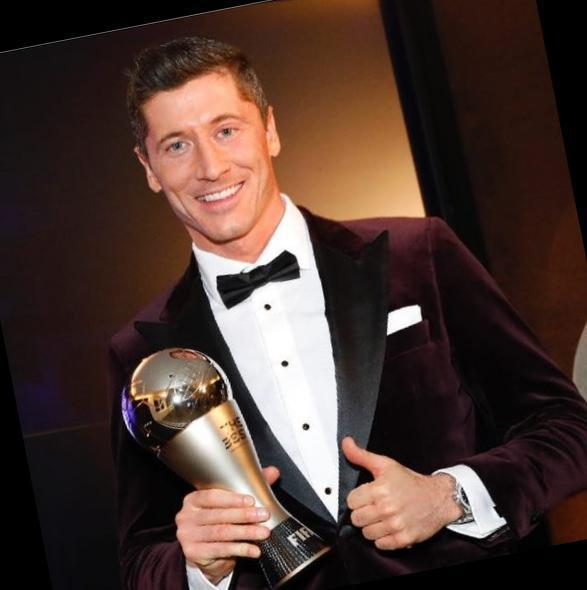Sober: (159, 77, 268, 227)
